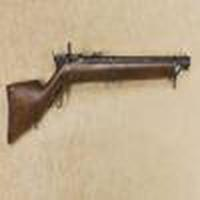gun: (5, 48, 197, 139)
